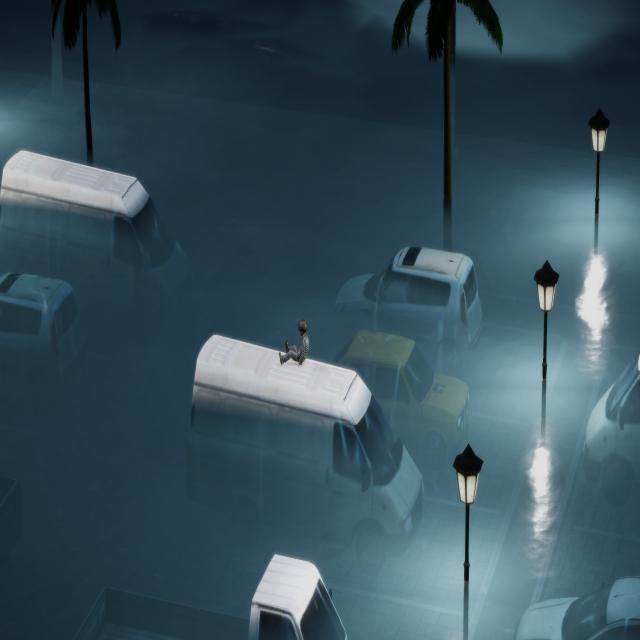Human: (270, 312, 314, 379)
